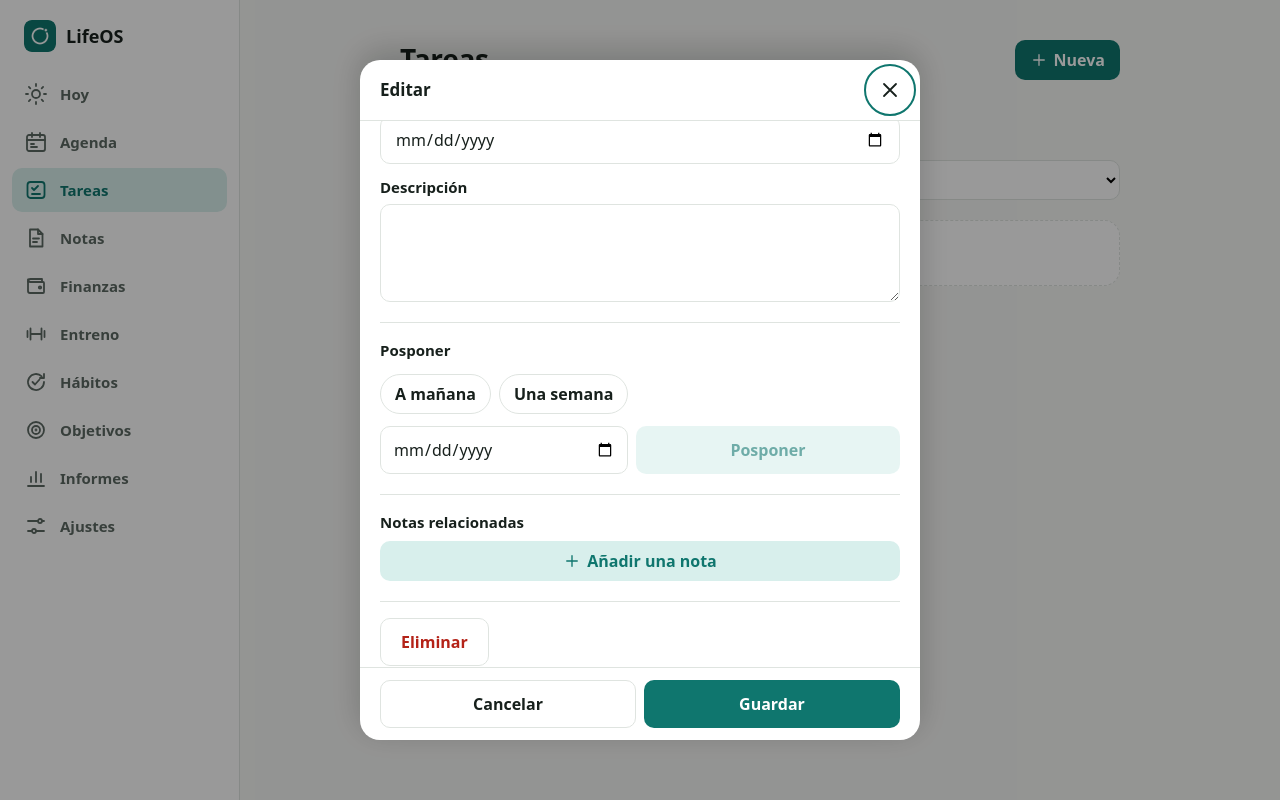
editor de tareas › pospone una tarea a mañana
(page scrolled)
Click the button "A mañana".
click(435, 394)  # box [380,374,491,414]
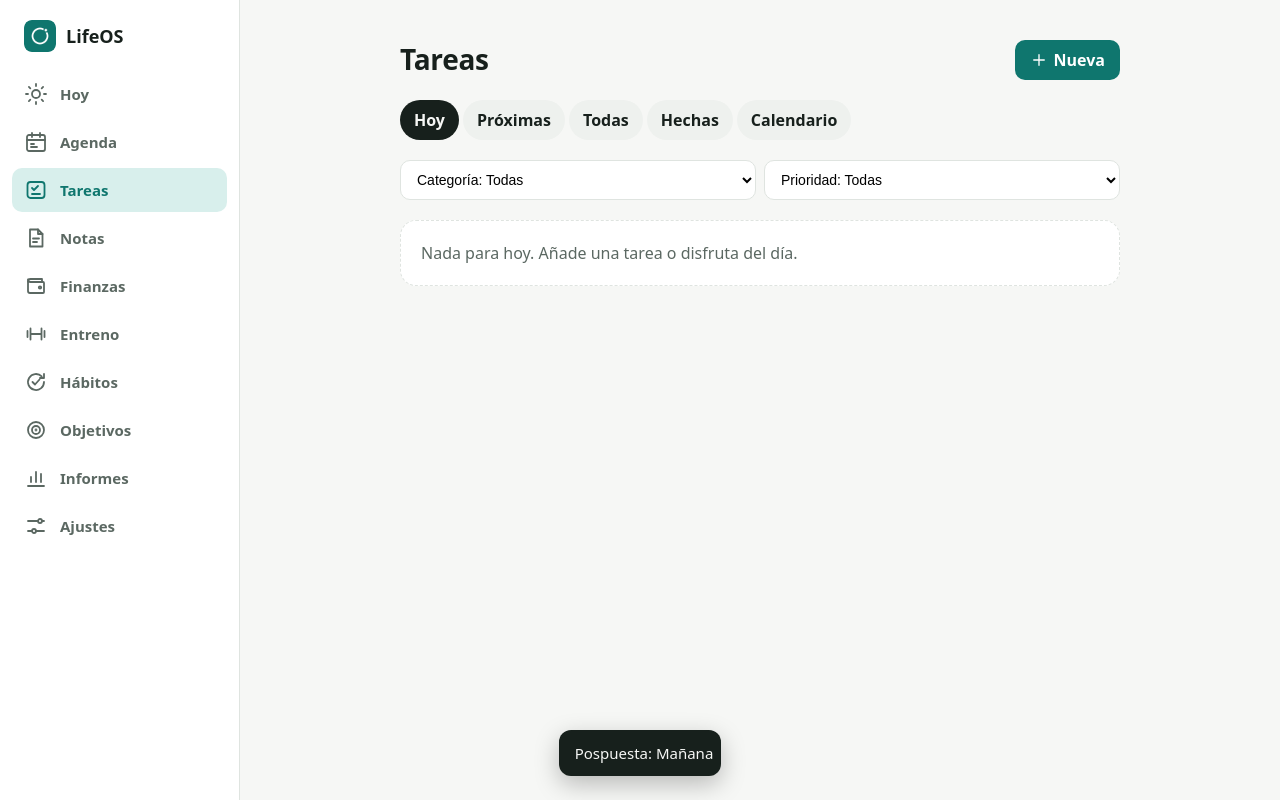
Check: the text "Pospuesta: Mañana" is shown, box [575,742,713,764]
